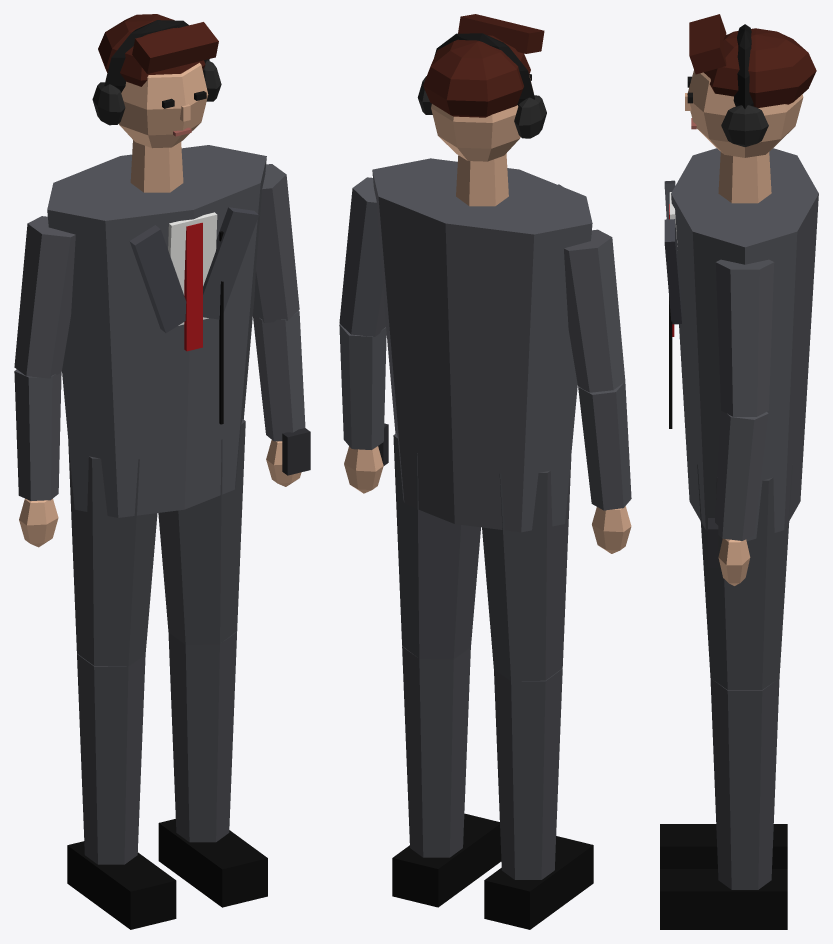
Rendered from 02-suit-guy.glb.
3 renders of one model, left to right at view 1: azimuth 30°, elevation 25°; view 2: azimuth 150°, elevation 25°; view 3: azimuth 270°, elevation 25°, orthographic.
Parts seen in each view (by area): view 1: 02-suit-guy-jacket, 02-suit-guy-thigh, 02-suit-guy-shin, 02-suit-guy-shin.001, 02-suit-guy-thigh.001, 02-suit-guy-torso, 02-suit-guy-upperarm, 02-suit-guy-foot, 02-suit-guy-foot.001, 02-suit-guy-forearm, 02-suit-guy-upperarm.001, 02-suit-guy-forearm.001 (+14 smaller); view 2: 02-suit-guy-jacket, 02-suit-guy-thigh, 02-suit-guy-shin, 02-suit-guy-shin.001, 02-suit-guy-thigh.001, 02-suit-guy-torso, 02-suit-guy-upperarm, 02-suit-guy-hair, 02-suit-guy-foot, 02-suit-guy-foot.001, 02-suit-guy-upperarm.001, 02-suit-guy-forearm (+8 smaller); view 3: 02-suit-guy-jacket, 02-suit-guy-shin.001, 02-suit-guy-thigh.001, 02-suit-guy-upperarm.001, 02-suit-guy-torso, 02-suit-guy-foot.001, 02-suit-guy-forearm.001, 02-suit-guy-hair, 02-suit-guy-head, 02-suit-guy-foot, 02-suit-guy-neck, 02-suit-guy-quiff (+6 smaller).
Boxes of the visible parts, bbox=[...] form: 02-suit-guy-jacket: bbox=[47, 145, 266, 517]; 02-suit-guy-thigh: bbox=[68, 442, 157, 666]; 02-suit-guy-shin: bbox=[77, 653, 145, 864]; 02-suit-guy-shin.001: bbox=[168, 631, 236, 842]; 02-suit-guy-thigh.001: bbox=[158, 419, 245, 644]; 02-suit-guy-torso: bbox=[47, 146, 266, 219]; 02-suit-guy-upperarm: bbox=[14, 216, 75, 378]; 02-suit-guy-foot: bbox=[67, 841, 176, 929]; 02-suit-guy-foot.001: bbox=[158, 819, 267, 907]; 02-suit-guy-forearm: bbox=[14, 369, 61, 500]; 02-suit-guy-upperarm.001: bbox=[253, 164, 299, 322]; 02-suit-guy-forearm.001: bbox=[253, 310, 305, 441]; 02-suit-guy-jacket: bbox=[372, 158, 592, 532]; 02-suit-guy-thigh: bbox=[482, 457, 571, 681]; 02-suit-guy-shin: bbox=[494, 668, 562, 879]; 02-suit-guy-shin.001: bbox=[402, 646, 470, 857]; 02-suit-guy-thigh.001: bbox=[393, 433, 480, 659]; 02-suit-guy-torso: bbox=[372, 159, 592, 233]; 02-suit-guy-upperarm: bbox=[564, 229, 625, 392]; 02-suit-guy-hair: bbox=[423, 35, 530, 117]; 02-suit-guy-foot: bbox=[484, 836, 593, 929]; 02-suit-guy-foot.001: bbox=[392, 813, 501, 907]; 02-suit-guy-upperarm.001: bbox=[339, 177, 385, 336]; 02-suit-guy-forearm: bbox=[578, 382, 631, 510]; 02-suit-guy-jacket: bbox=[671, 148, 818, 541]; 02-suit-guy-shin.001: bbox=[710, 678, 779, 889]; 02-suit-guy-thigh.001: bbox=[697, 464, 792, 689]; 02-suit-guy-upperarm.001: bbox=[715, 259, 774, 416]; 02-suit-guy-torso: bbox=[675, 148, 814, 247]; 02-suit-guy-foot.001: bbox=[660, 869, 787, 929]; 02-suit-guy-forearm.001: bbox=[715, 411, 768, 540]; 02-suit-guy-hair: bbox=[704, 28, 816, 107]; 02-suit-guy-head: bbox=[687, 70, 803, 157]; 02-suit-guy-foot: bbox=[660, 824, 787, 868]; 02-suit-guy-neck: bbox=[718, 152, 771, 203]; 02-suit-guy-quiff: bbox=[689, 14, 726, 74].
Size of the model in its own units: 0.6099 by 1.8 by 0.2992.
